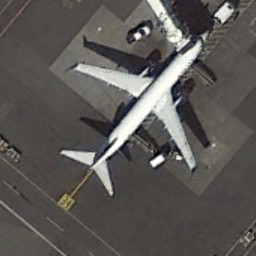Airplane: (58, 24, 223, 205)
